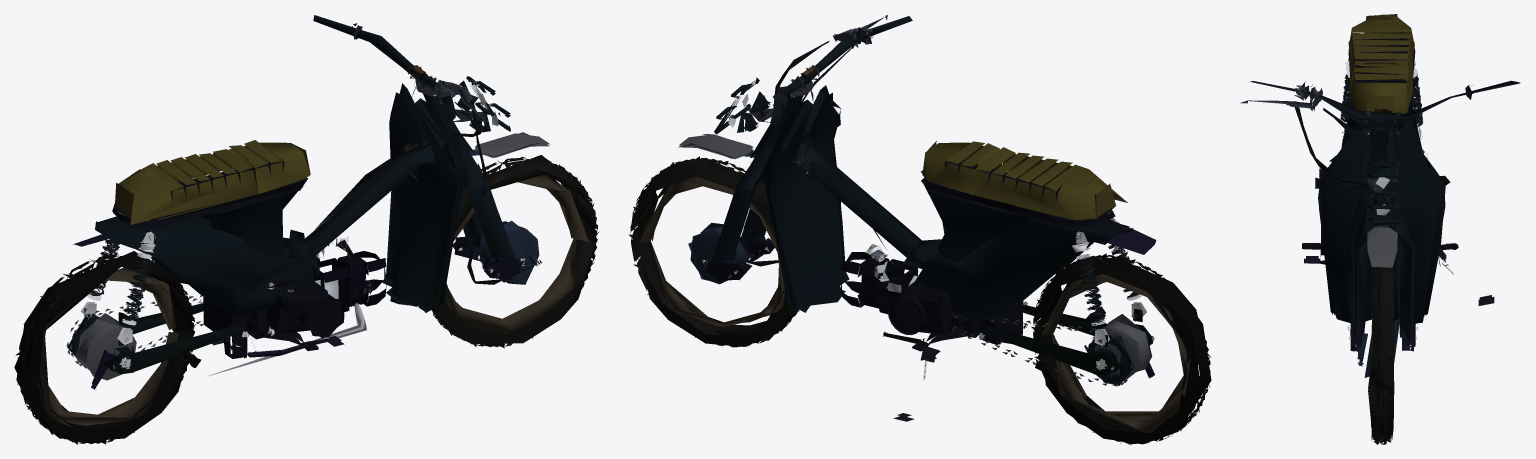
File: superCub.glb
The picture shows the model from 3 angles, left to right: view 1: azimuth 30°, elevation 25°; view 2: azimuth 150°, elevation 25°; view 3: azimuth 270°, elevation 25°; orthographic projection. The views are drawn at different scales.
Visible parts, largest first — view 1: polySurface750_lambert22_0; view 2: polySurface750_lambert22_0; view 3: polySurface750_lambert22_0.
Boxes of the visible parts, <box> form: polySurface750_lambert22_0: <box>14,15,598,444</box>; polySurface750_lambert22_0: <box>628,15,1211,444</box>; polySurface750_lambert22_0: <box>1240,14,1520,444</box>.
Bounding box in the file's own units: 4.32 × 2.25 × 1.88.
